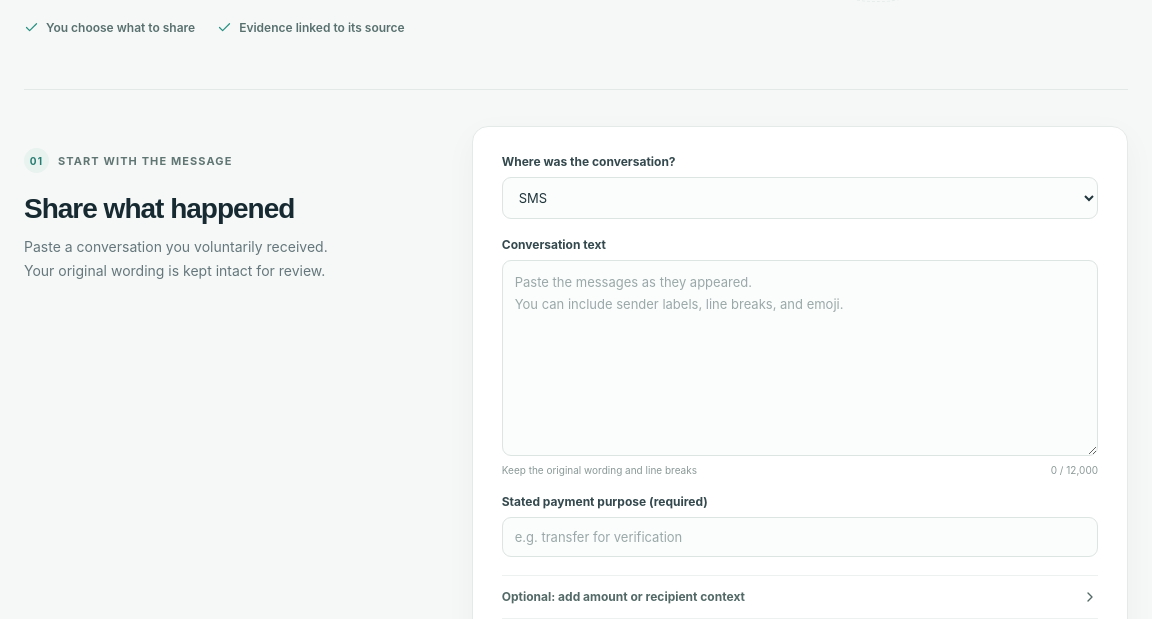
Scenario: retries failed create with the same idempotency key, body, and event ID
The image size is (1152, 619).
(page scrolled)
Type "A message that needs context." into the text box labelled "Conversation text".
click(800, 358); type("A message that needs context.")  # box [502,260,1098,456]
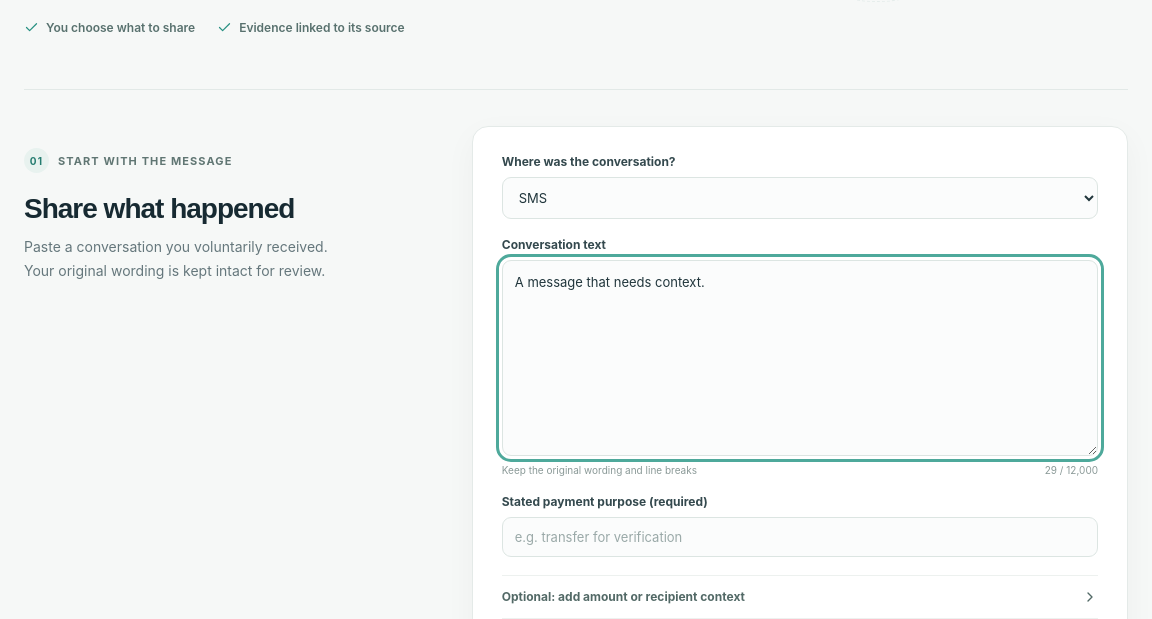
Click the heading "Optional: add amount or recipient context".
click(623, 597)  # box [502,589,1098,605]
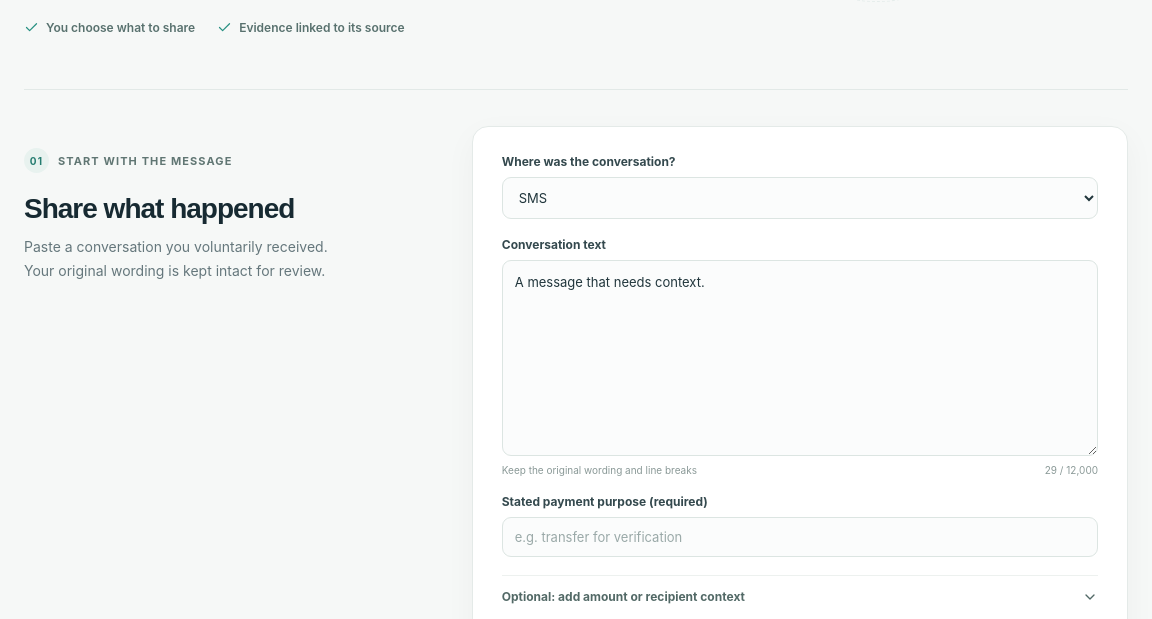
Type "Account verification" into the field labelled "Stated payment purpose (required)".
click(800, 537); type("Account verification")  # box [502,517,1098,557]
(page scrolled)
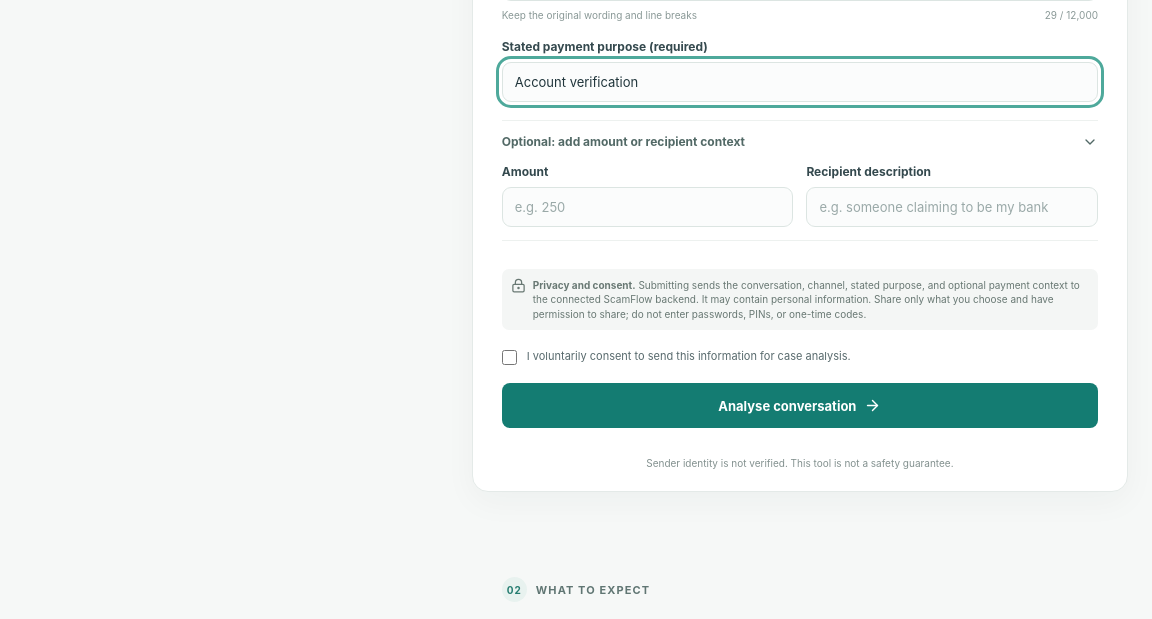
Click the checkbox.
click(509, 358)  # box [502,350,517,365]
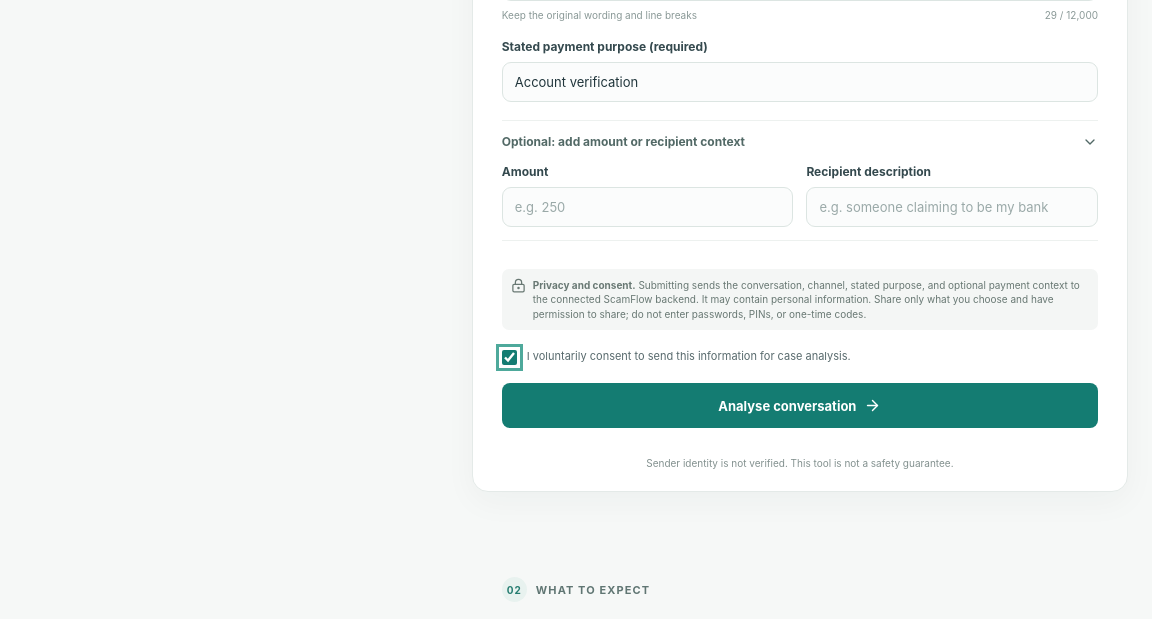
Click the button "Analyse conversation".
click(800, 406)  # box [502,383,1098,428]
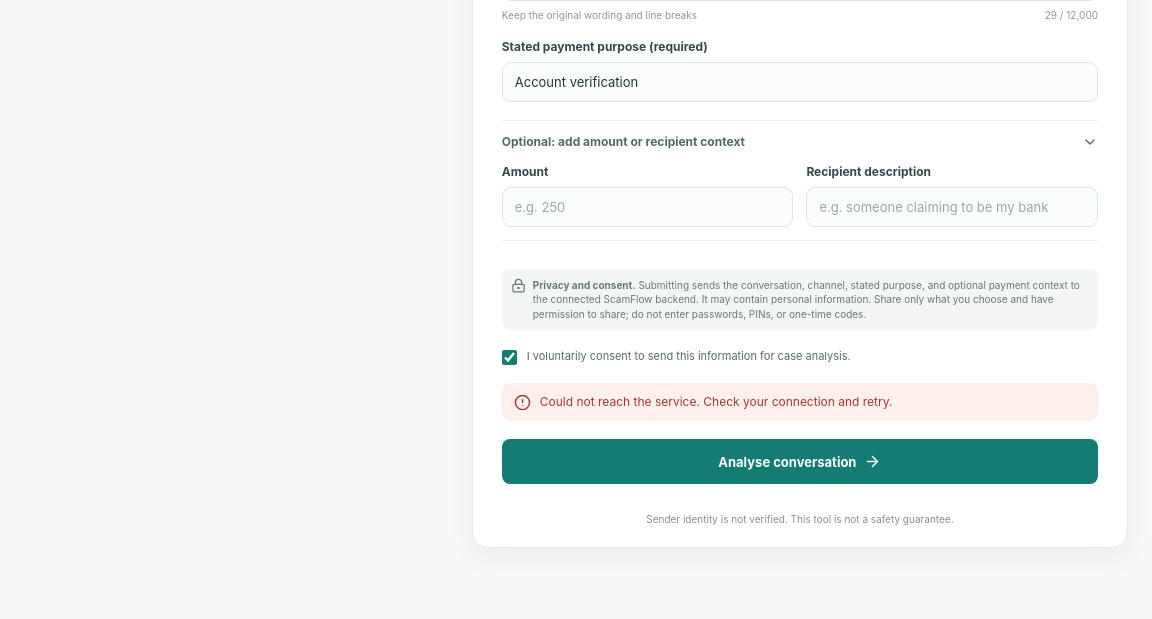
Result: the message shows "Could not reach the service" at [540,394,892,409]
Click the button "Analyse conversation".
click(800, 462)  # box [502,439,1098,484]
(page scrolled)
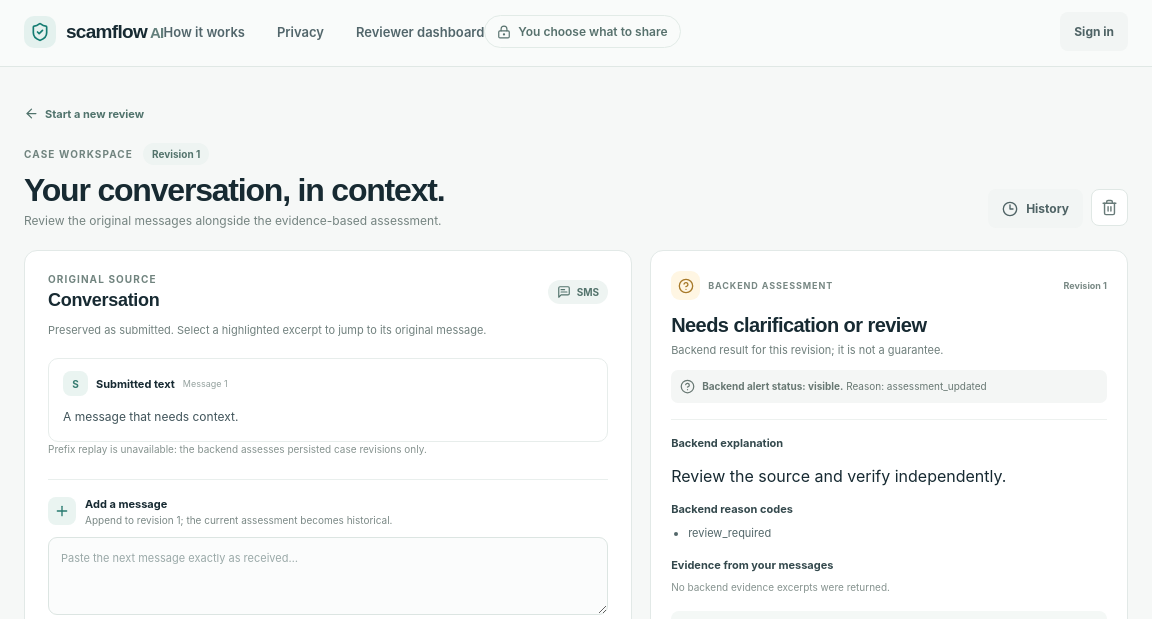
Result: the heading "Your conversation, in context." is shown at [24,173,444,208]
